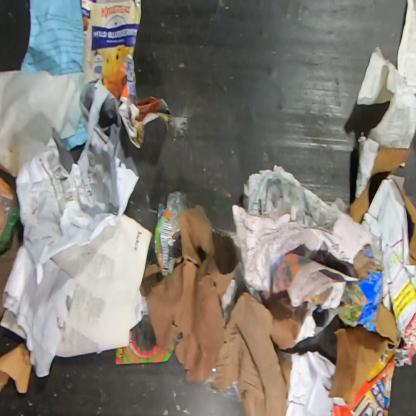cardboard: (80, 0, 170, 150), (212, 291, 302, 415), (327, 303, 403, 415), (346, 144, 412, 225), (336, 242, 385, 333), (0, 225, 20, 320), (0, 341, 33, 397), (399, 187, 415, 266)
rigid_plastic: (0, 176, 21, 256)
soft_plastic: (154, 190, 187, 277)
